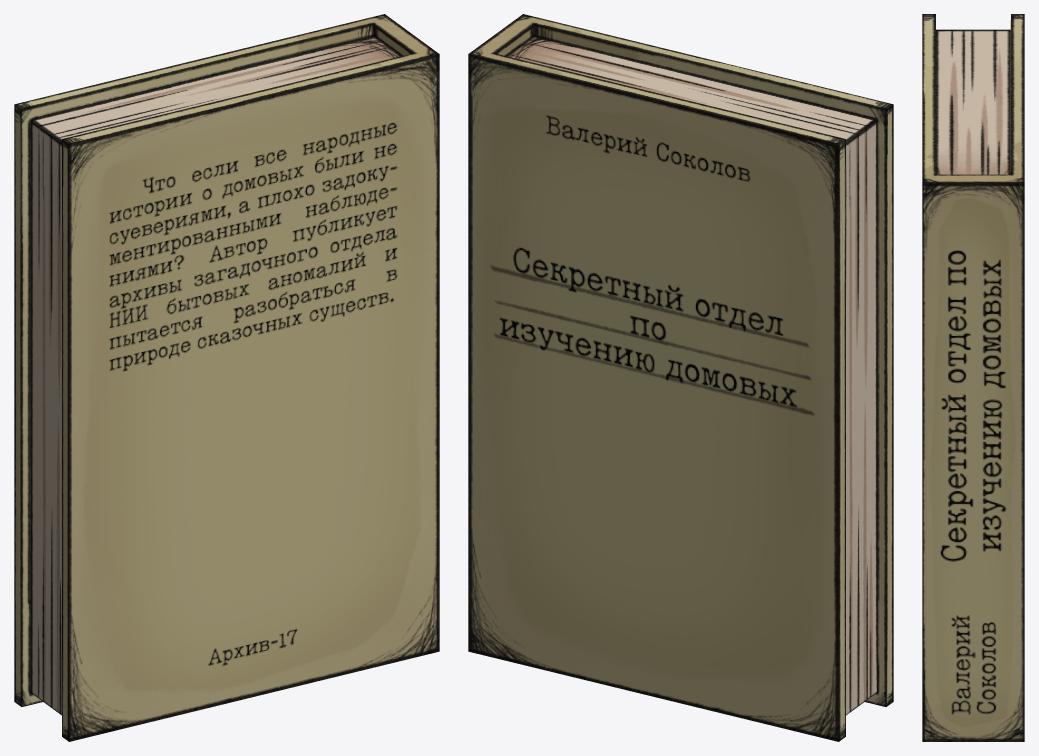
File: book_14.fbx
3 renders of one model, left to right at view 1: azimuth 30°, elevation 25°; view 2: azimuth 150°, elevation 25°; view 3: azimuth 270°, elevation 25°, orthographic. The views are drawn at different scales.
Visible parts, largest first — view 1: book_1; view 2: book_1; view 3: book_1.
Part boxes in pixels (x1=…): book_1: x1=14, y1=14, x2=439, y2=741; book_1: x1=468, y1=14, x2=893, y2=741; book_1: x1=922, y1=14, x2=1024, y2=741.
Bounding box in the file's own units: 29.92 × 46.11 × 7.66.
Materials: 1 (1 with a texture image).
